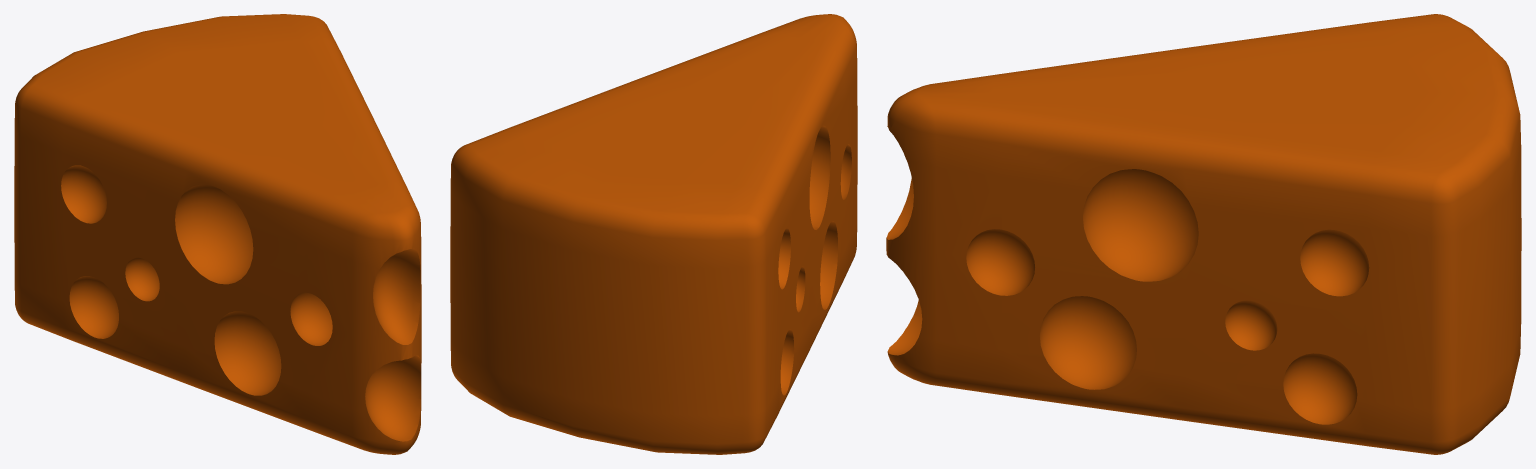
The model's file is Cheese.fbx.
3 views of the same model, side by side, from view 1: azimuth 30°, elevation 25°; view 2: azimuth 150°, elevation 25°; view 3: azimuth 270°, elevation 25° (orthographic). The views are drawn at different scales.
Parts seen in each view (by area): view 1: Box001; view 2: Box001; view 3: Box001.
Part boxes in pixels (left/top/right/bottom): Box001: left=14, top=14, right=421, bottom=454; Box001: left=450, top=14, right=857, bottom=454; Box001: left=886, top=14, right=1521, bottom=454.
Bounding box in the file's own units: 38.02 × 28.32 × 57.29.
